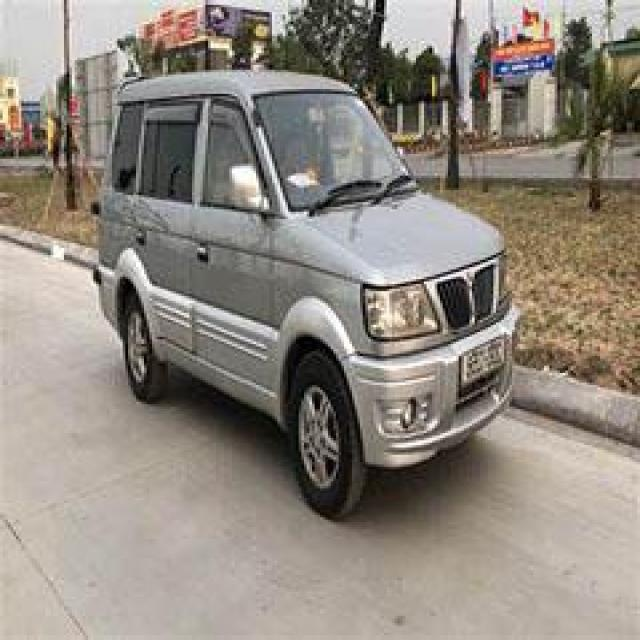car: (57, 30, 543, 535)
